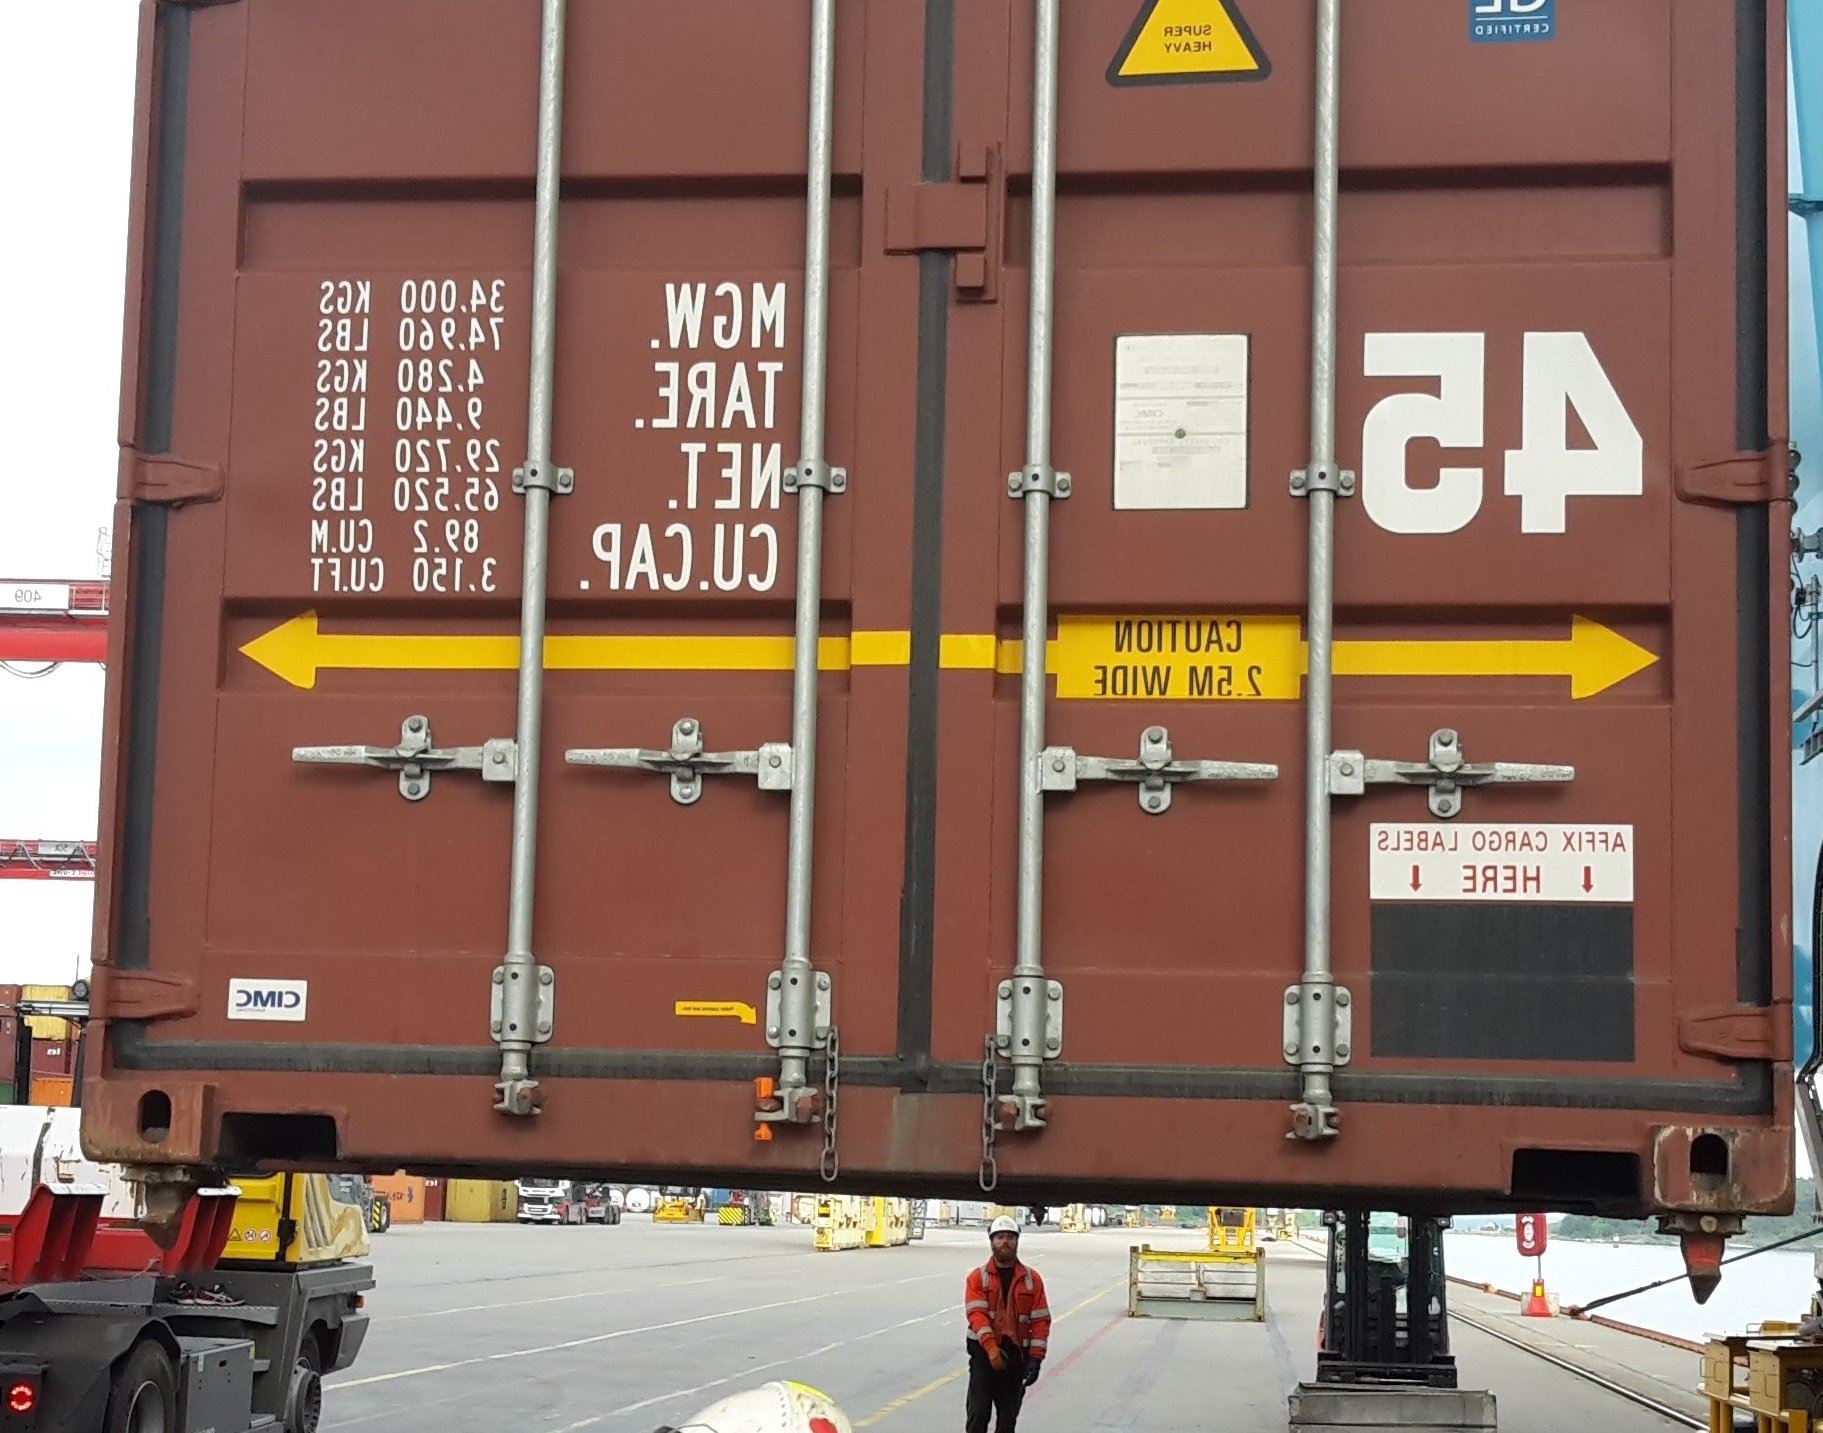container_door: (74, 6, 1782, 1221)
